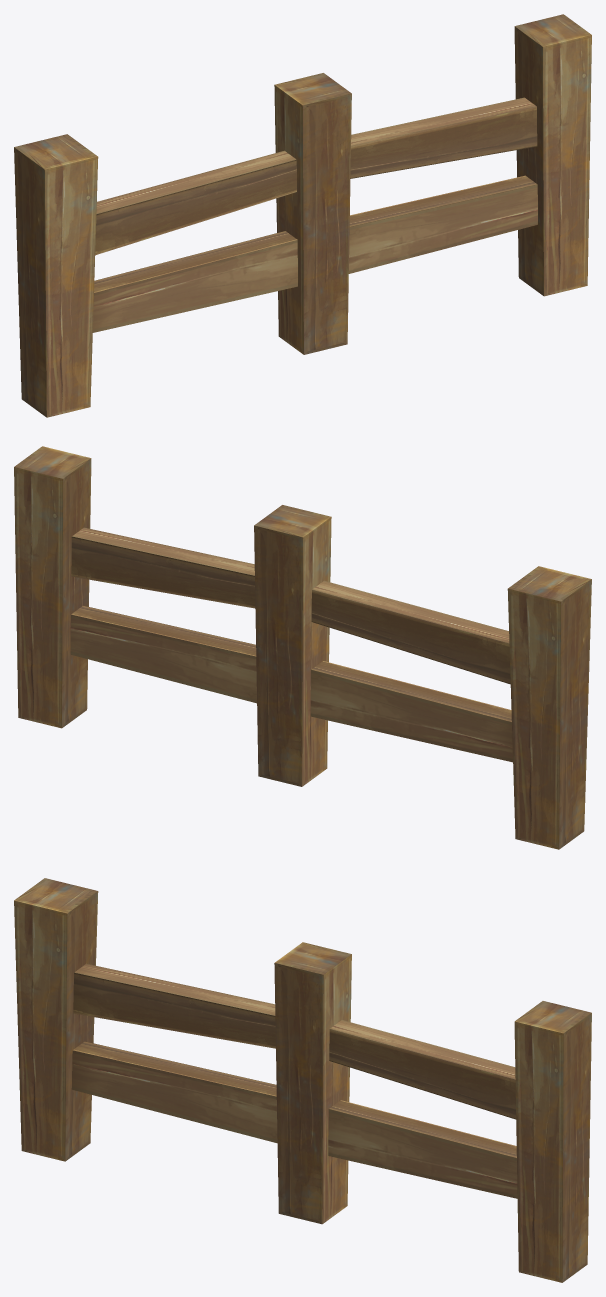
File: fence_straight.FBX
3 renders of one model, top to bottom at view 1: azimuth 30°, elevation 25°; view 2: azimuth 150°, elevation 25°; view 3: azimuth 330°, elevation 25°, orthographic.
Parts seen in each view (by area): view 1: fence_straight; view 2: fence_straight; view 3: fence_straight.
Part boxes in pixels (x1=…): fence_straight: x1=14, y1=14, x2=591, y2=417; fence_straight: x1=14, y1=446, x2=591, y2=849; fence_straight: x1=14, y1=878, x2=591, y2=1282.
Bounding box in the file's own units: 443 × 194 × 43.11.
2 materials, 2 textured.
